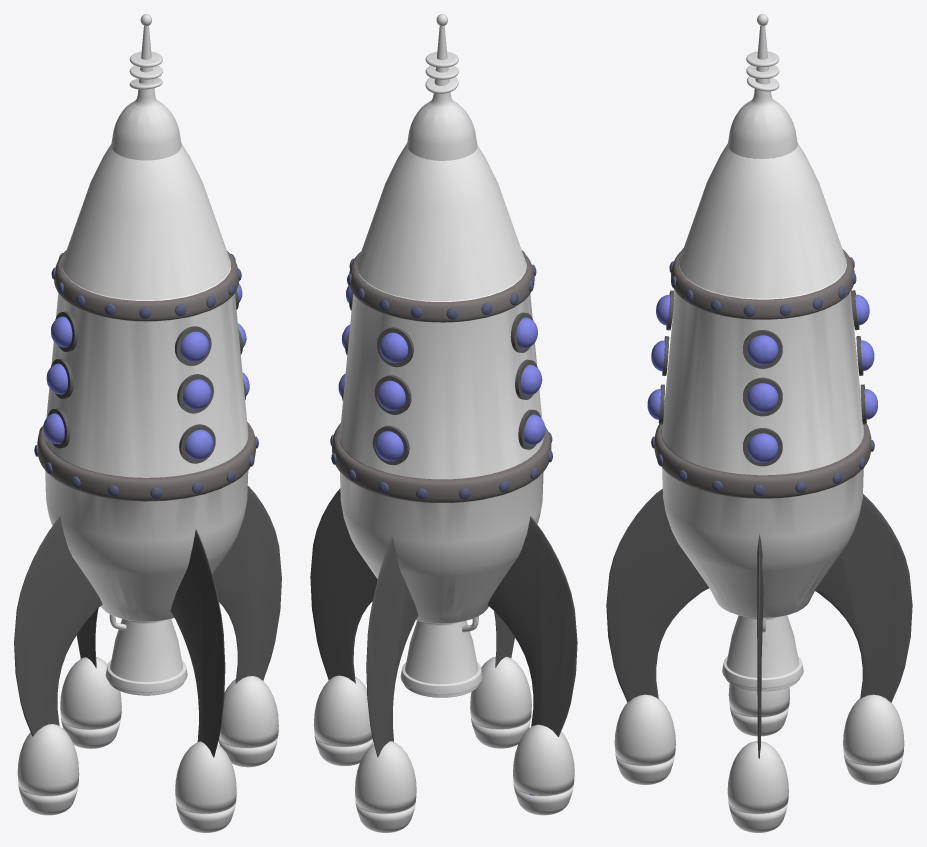
Rendered from Rocket.fbx.
3 renders of one model, left to right at view 1: azimuth 30°, elevation 25°; view 2: azimuth 150°, elevation 25°; view 3: azimuth 270°, elevation 25°, orthographic.
Visible parts, largest first — view 1: Rocket; view 2: Rocket; view 3: Rocket.
Boxes of the visible parts, x1,y1,x2,y2 form: Rocket: (14,14,281,832); Rocket: (310,14,577,832); Rocket: (606,14,912,832).
Bounding box in the file's own units: 3.13 × 8.6 × 3.13.
